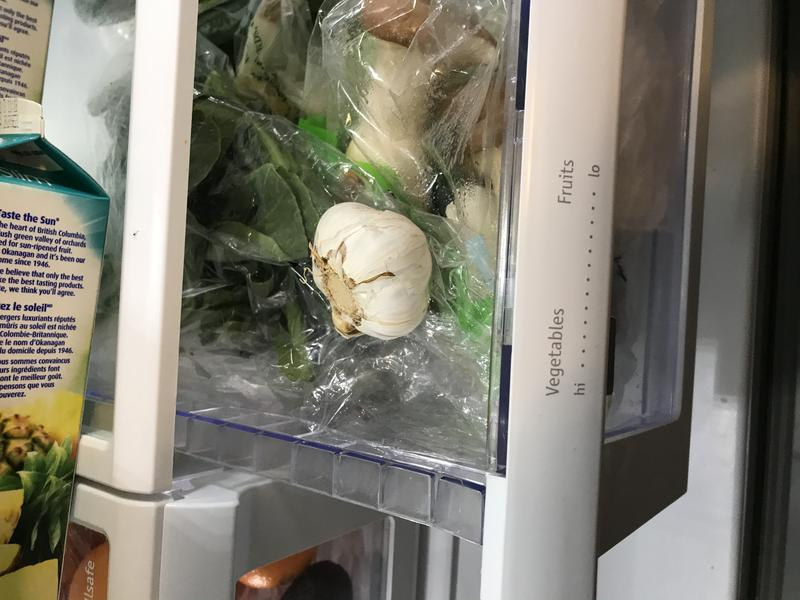garlic: (300, 200, 446, 348)
